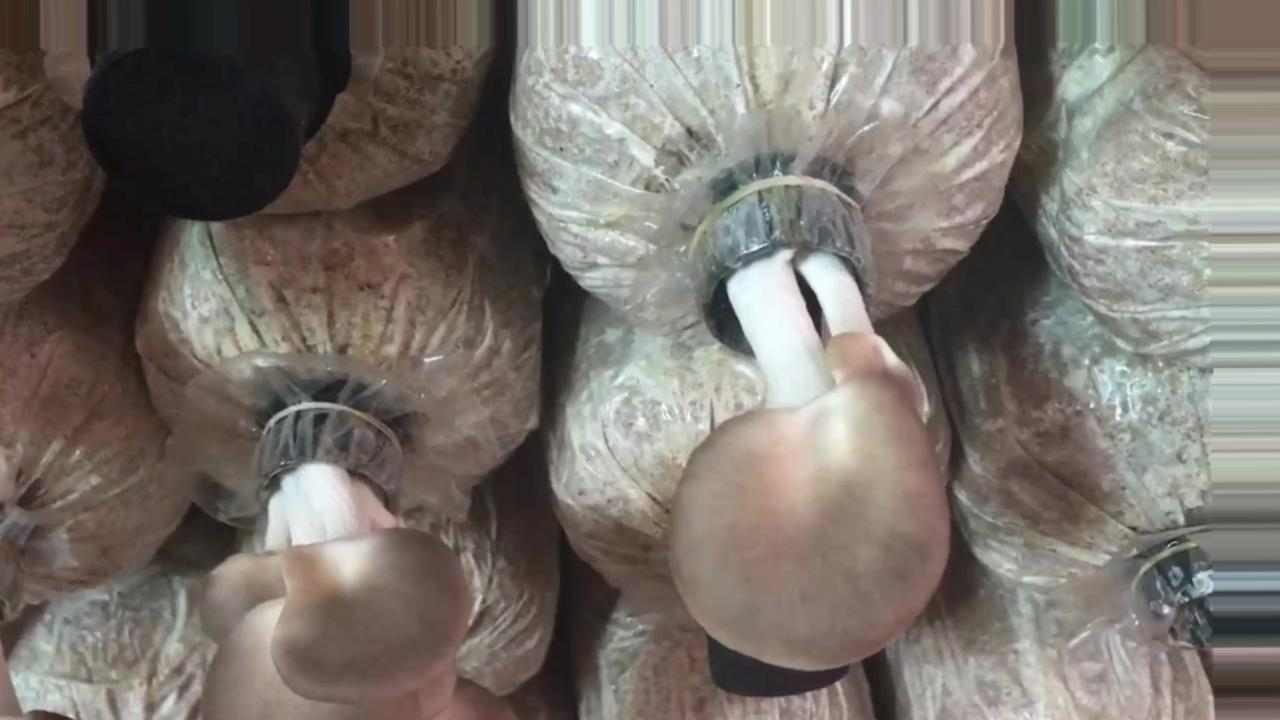nam: (666, 187, 948, 669), (202, 402, 510, 720)
